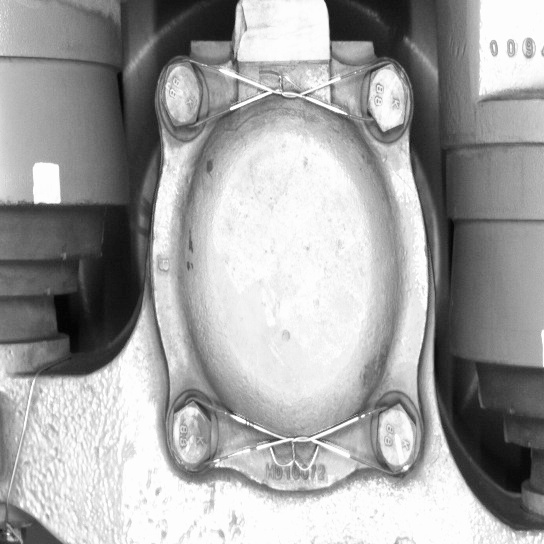IronWire: (148, 46, 418, 148), (157, 391, 430, 484)
Screw: (351, 47, 418, 147), (148, 51, 219, 143), (156, 389, 219, 478), (367, 392, 429, 482)
